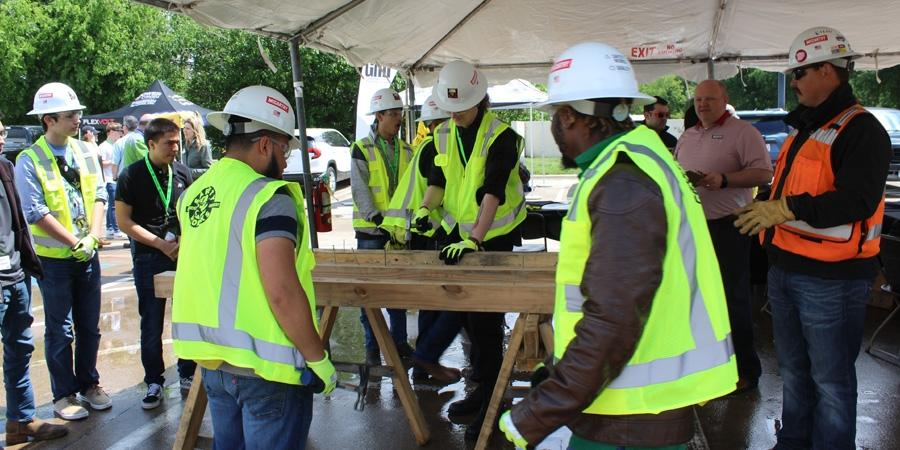helmet: (538, 43, 656, 109), (218, 85, 298, 140), (433, 60, 488, 111), (791, 28, 858, 68), (26, 84, 86, 118), (371, 89, 404, 116)
